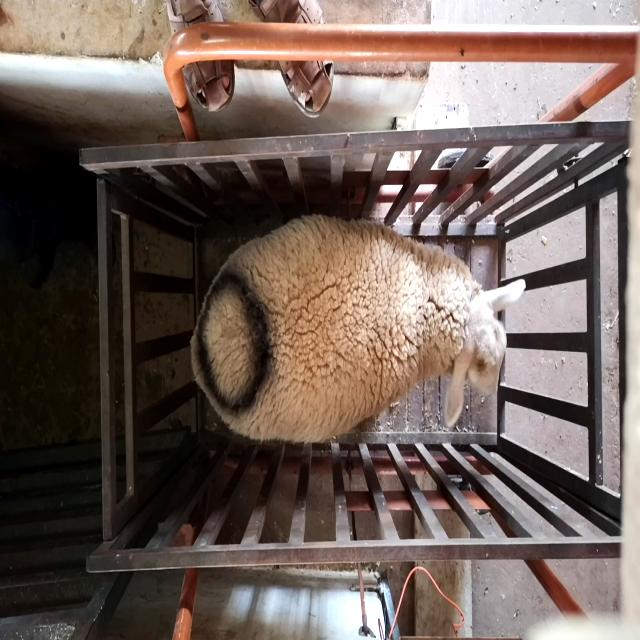sheep: (190, 214, 526, 442)
